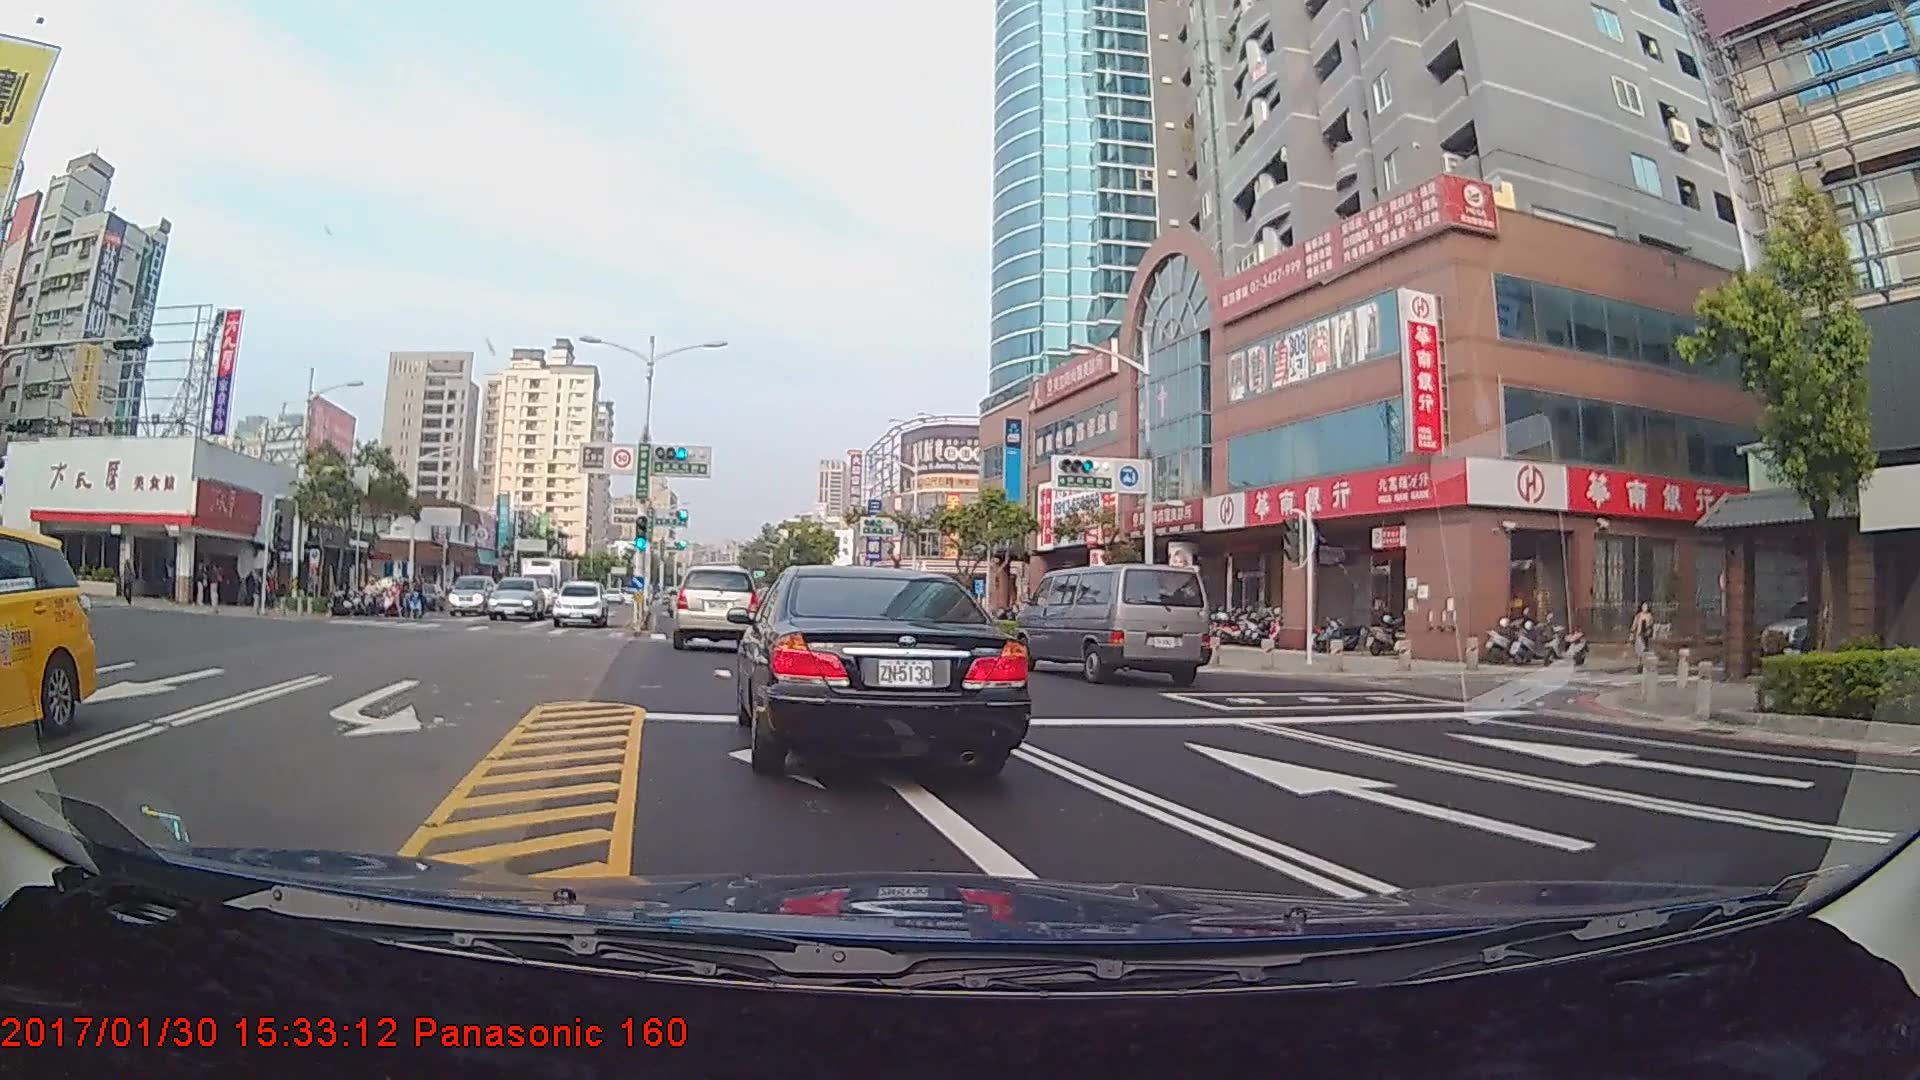pedestrian: (1632, 598, 1654, 663), (191, 557, 211, 607), (207, 561, 227, 609), (120, 559, 140, 607)
vehicle: (745, 558, 1026, 775), (1016, 562, 1209, 686), (0, 523, 93, 741), (670, 563, 761, 648), (526, 549, 580, 614), (487, 577, 547, 622), (553, 579, 608, 628), (449, 572, 502, 617)
